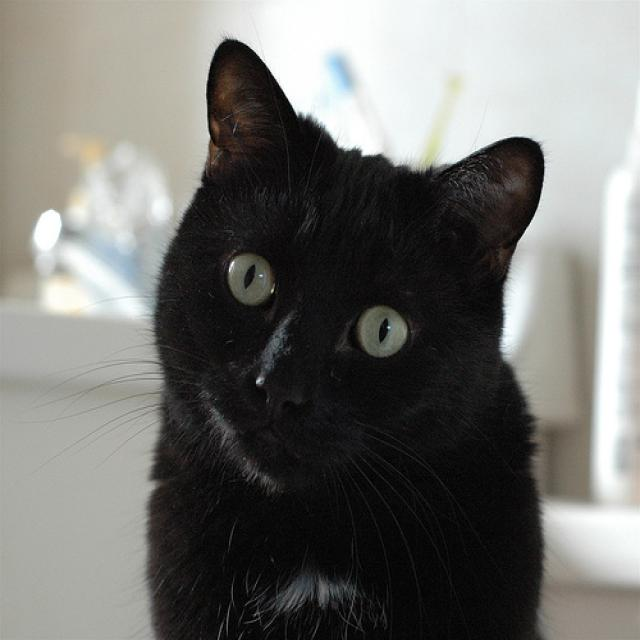left eye: (351, 302, 411, 360)
